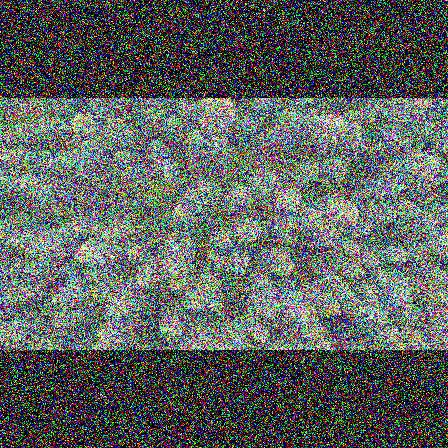Sick: (157, 234, 195, 266), (315, 263, 346, 290), (221, 249, 252, 276), (234, 110, 262, 137), (172, 102, 197, 122), (194, 112, 215, 135)
